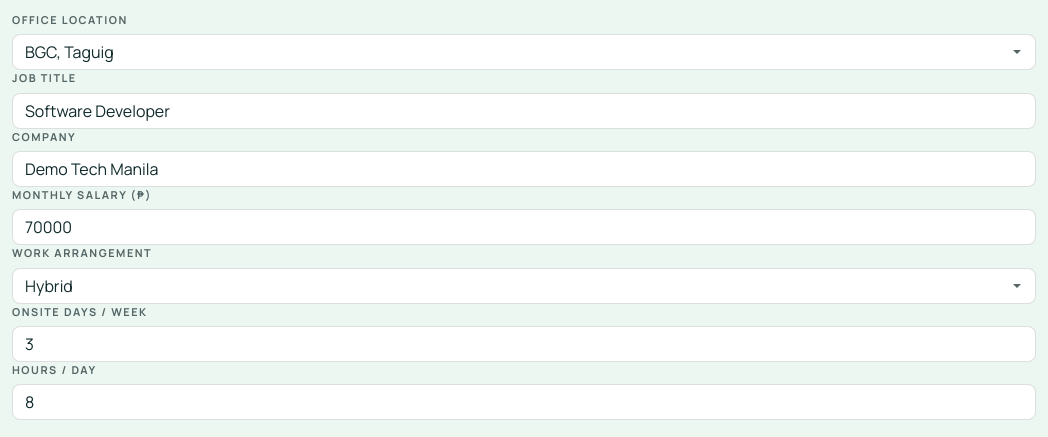
it: JobOfferFields — labelling › names the listbox once it opens
Click the dropdown named "WORK ARRANGEMENT": (49, 286) [12,268,1036,304]
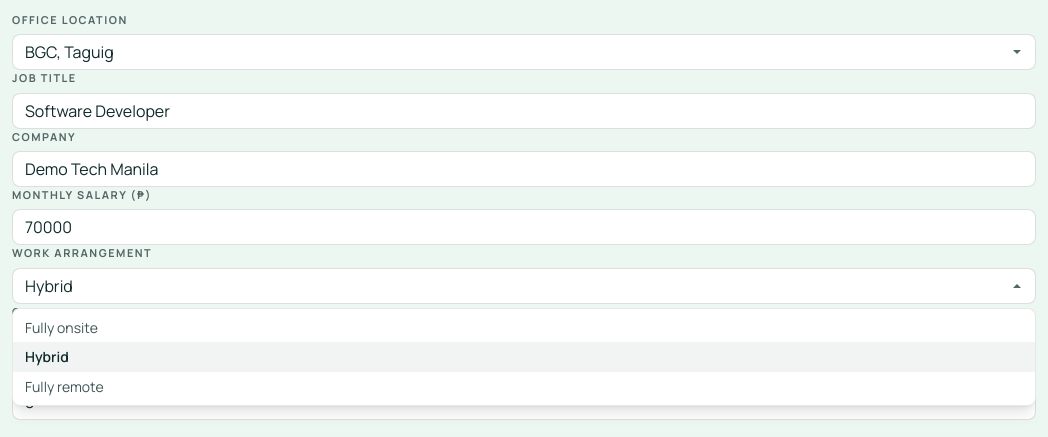
Expected: the list named "WORK ARRANGEMENT" is shown, [12,308,1036,406]
